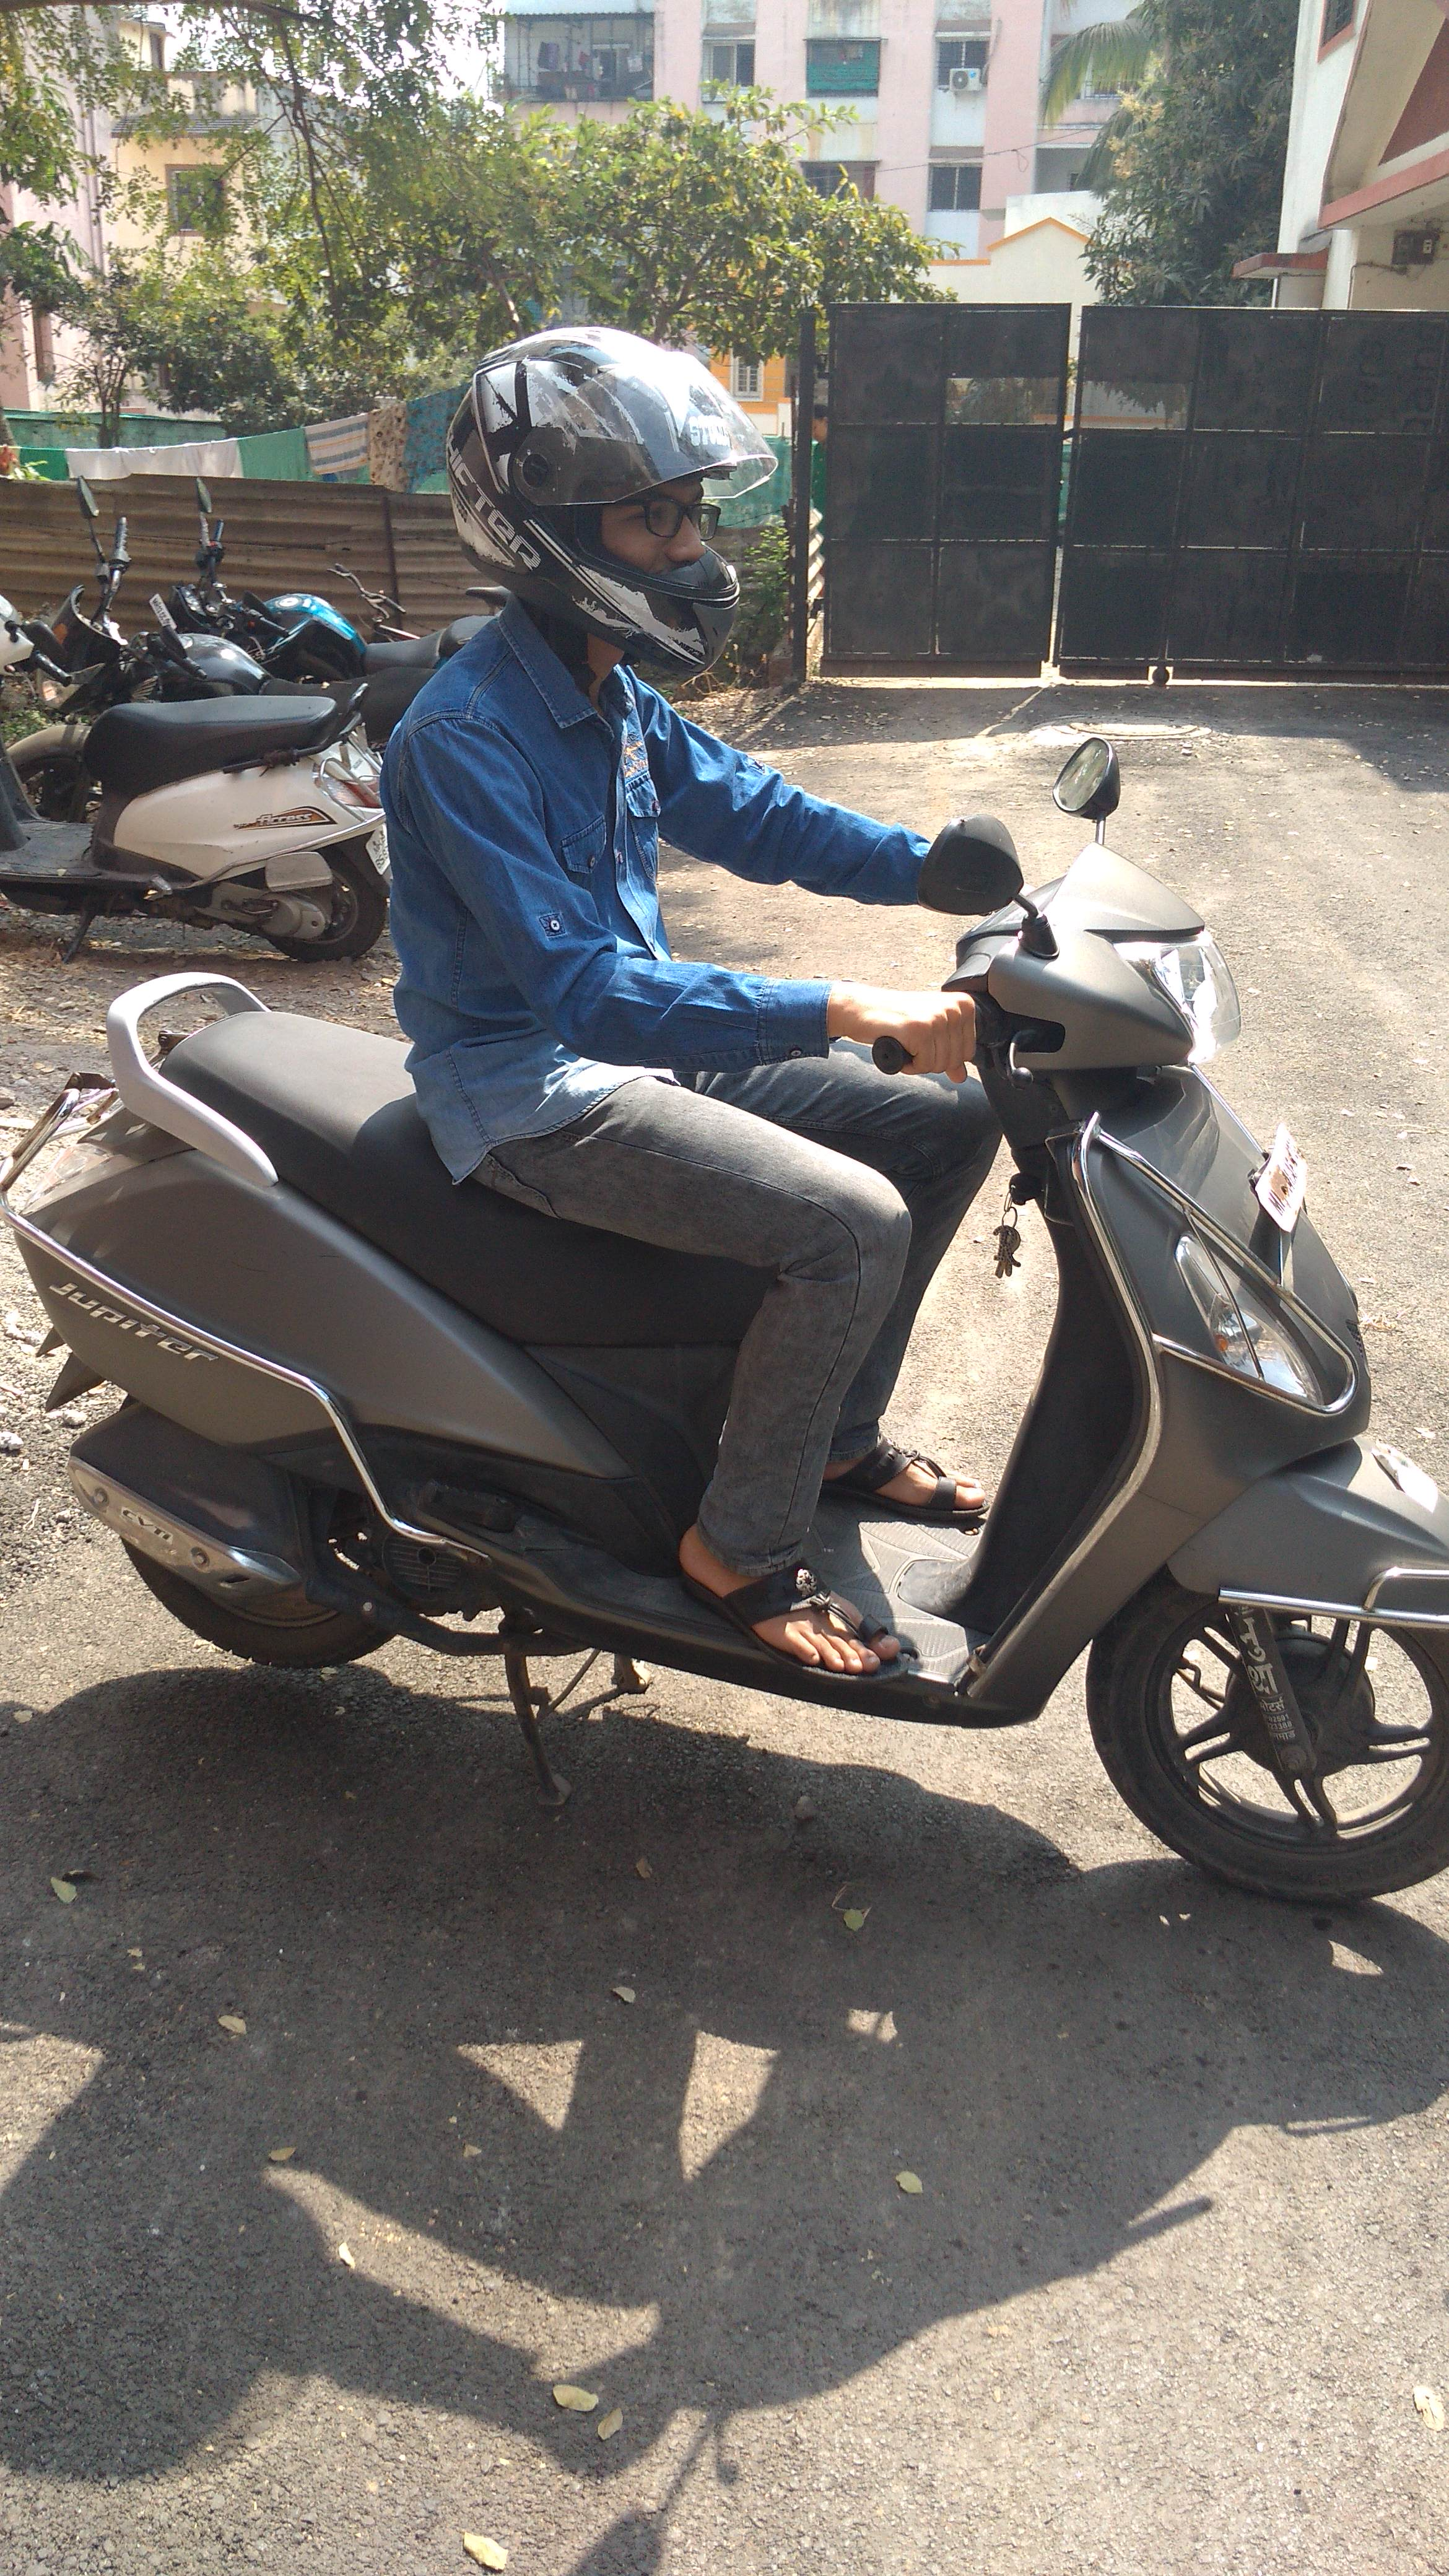helmet: (386, 294, 927, 1251)
